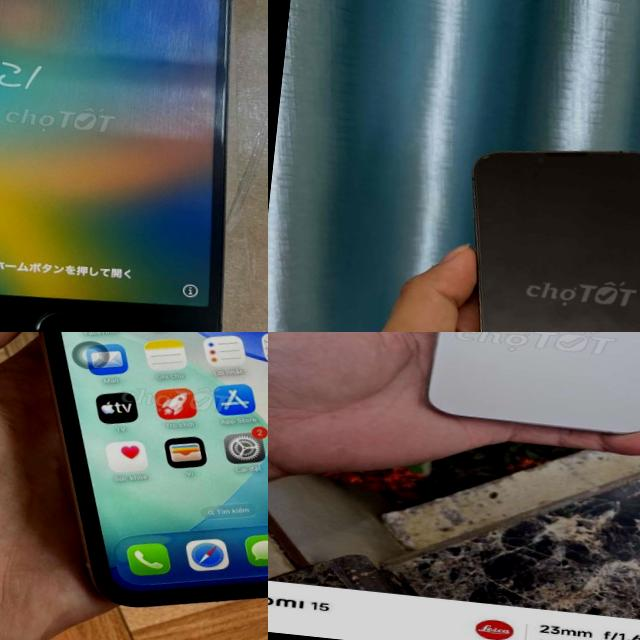gen_11: (38, 332, 268, 605)
gen_12_13: (439, 137, 640, 332)
gen_14: (412, 332, 640, 446)
gen_7_8: (0, 0, 268, 332)
